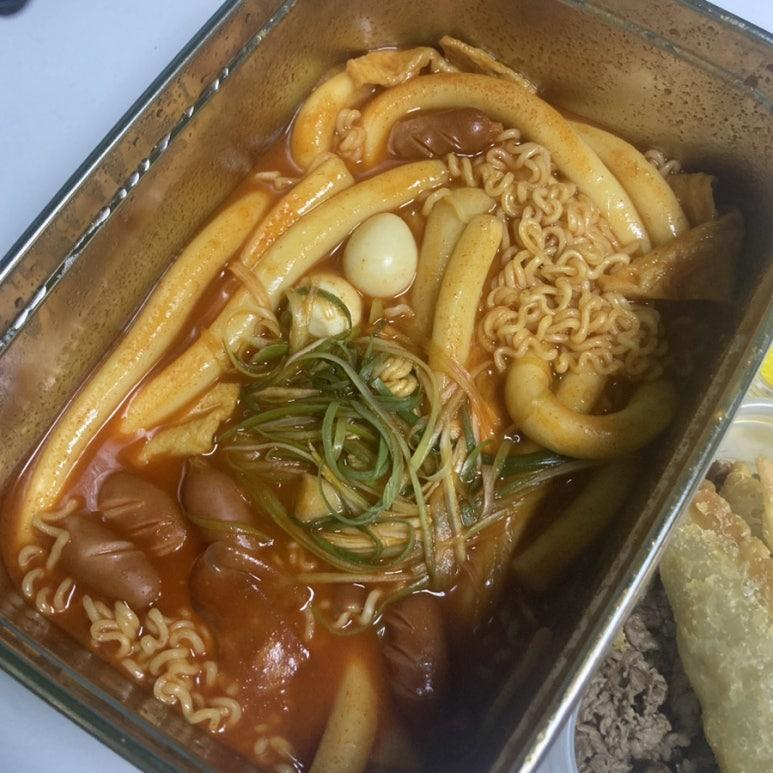Lunch Box: (0, 0, 772, 772), (539, 403, 772, 772)
